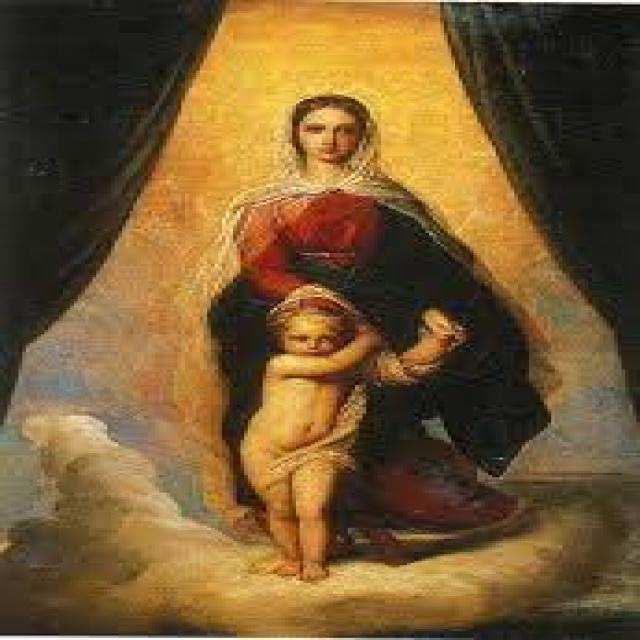mother of god: (181, 90, 577, 540)
